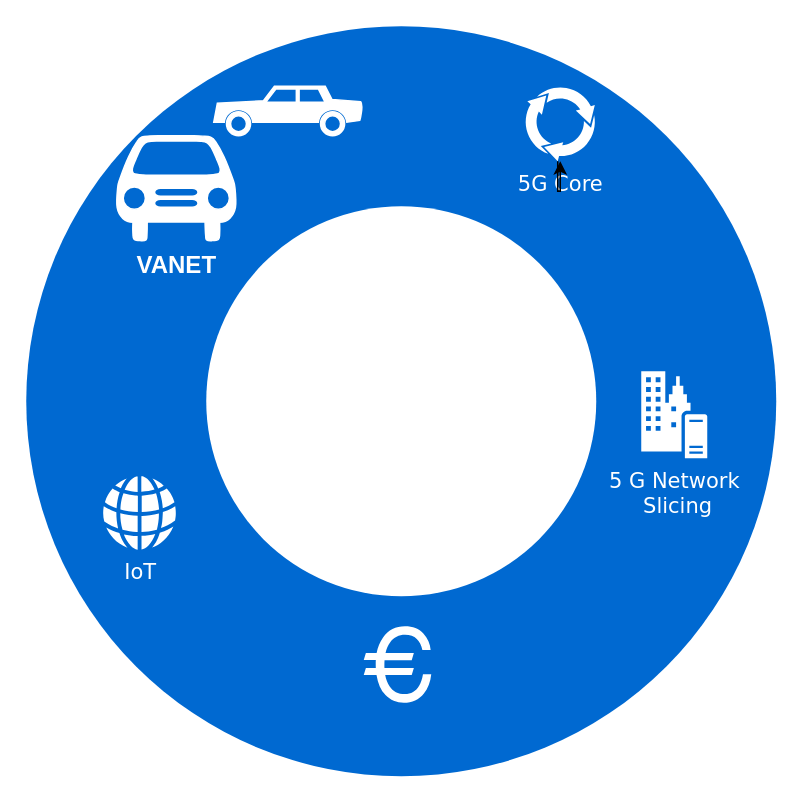
The diagram is 801 pixels wide and 801 high, and some of its shapes have lost their labels. The shapes that lost their labels are listed below. From the top down, each one's box as (x1, y1, x2, y2) in pixels, then its label:
(206, 206, 596, 596): Zero-knowledge in 5 G
(363, 626, 430, 702): 5G Edge
